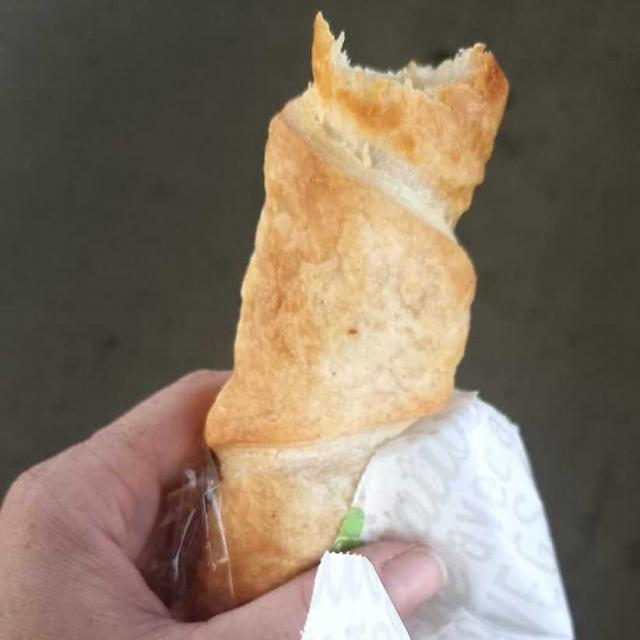ham-croissant: (169, 33, 492, 585)
